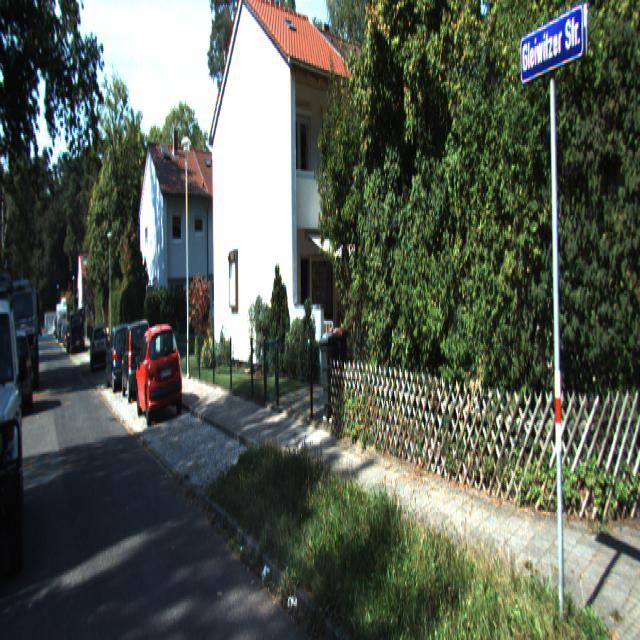Car: (0, 264, 24, 590), (133, 320, 183, 429), (5, 275, 38, 384), (116, 321, 152, 403), (101, 324, 134, 395), (89, 323, 108, 372)
